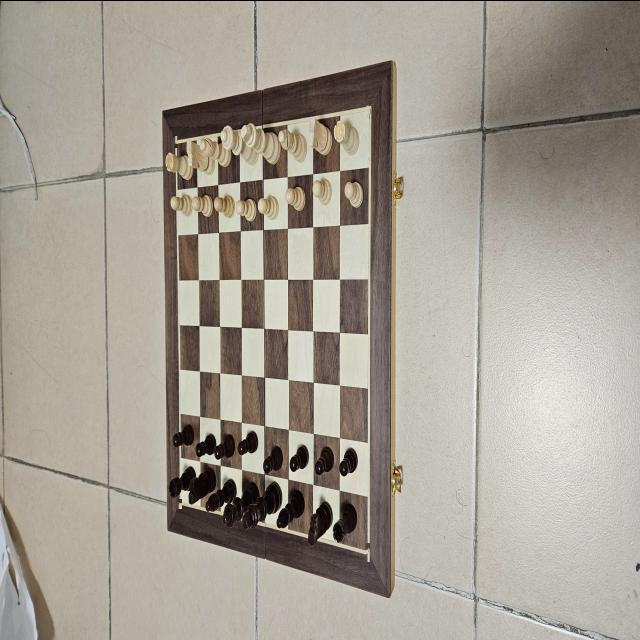chess-table-corners: (365, 99, 373, 118), (366, 542, 370, 561), (174, 135, 178, 147), (178, 498, 182, 508)
